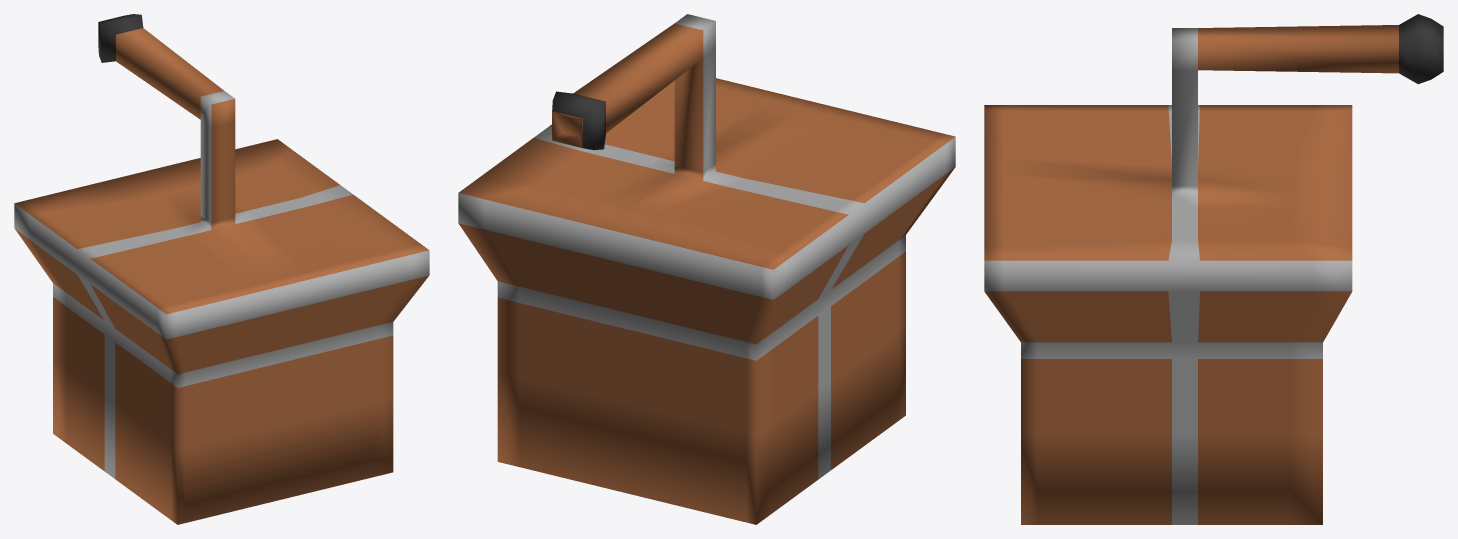
File: crankbox.fbx
3 views of the same model, side by side, from view 1: azimuth 30°, elevation 25°; view 2: azimuth 150°, elevation 25°; view 3: azimuth 270°, elevation 25° (orthographic). The views are drawn at different scales.
Visible parts, largest first — view 1: CrankBox; view 2: CrankBox; view 3: CrankBox.
Boxes of the visible parts, box(x1,y1,x2,y2) form: CrankBox: box(14, 14, 429, 524); CrankBox: box(458, 14, 955, 524); CrankBox: box(984, 14, 1443, 524).
Bounding box in the file's own units: 76.9 × 100 × 95.96.
